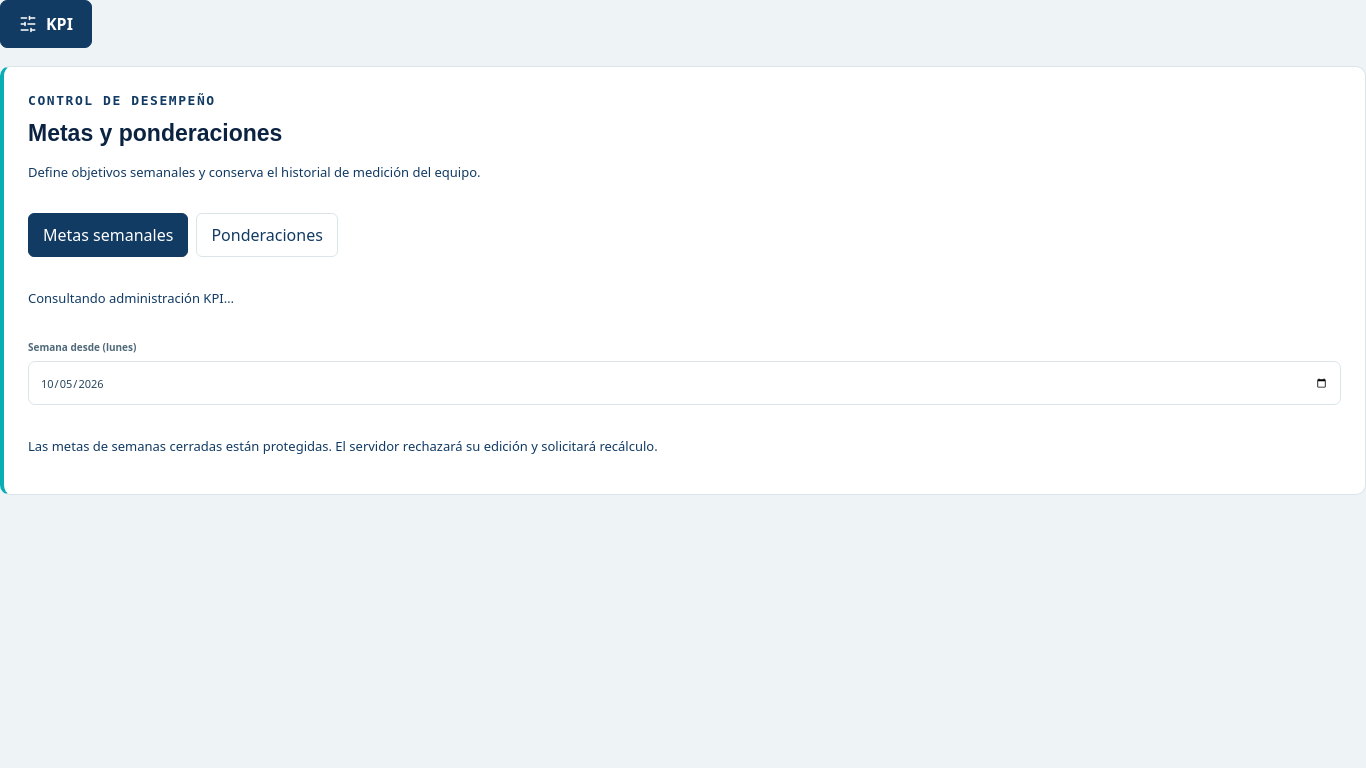
Test case: conserva el borrador cuando el servidor bloquea una semana cerrada
Click the button "KPI": (46, 24) [0,0,92,48]
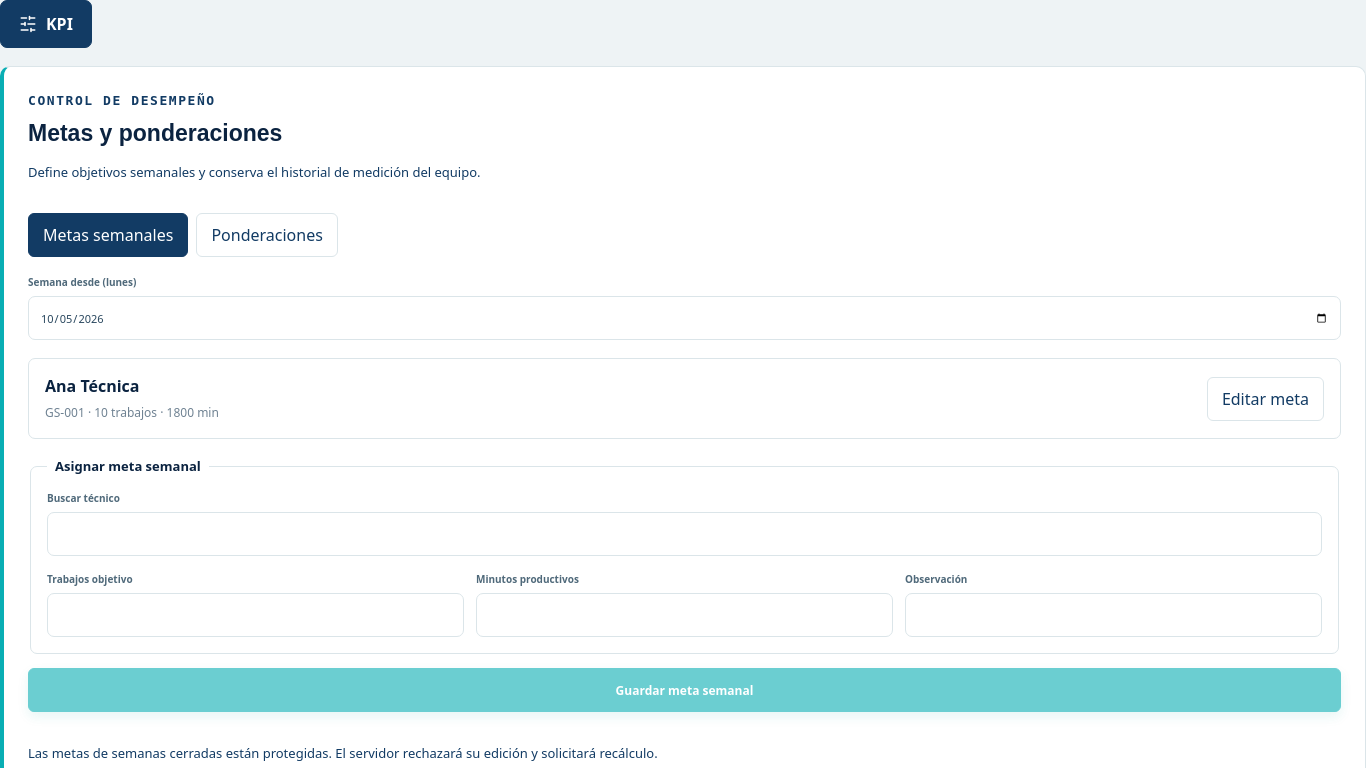
Click the button with aria-label "Editar meta de Ana Técnica": (1265, 399) [1207,377,1324,421]
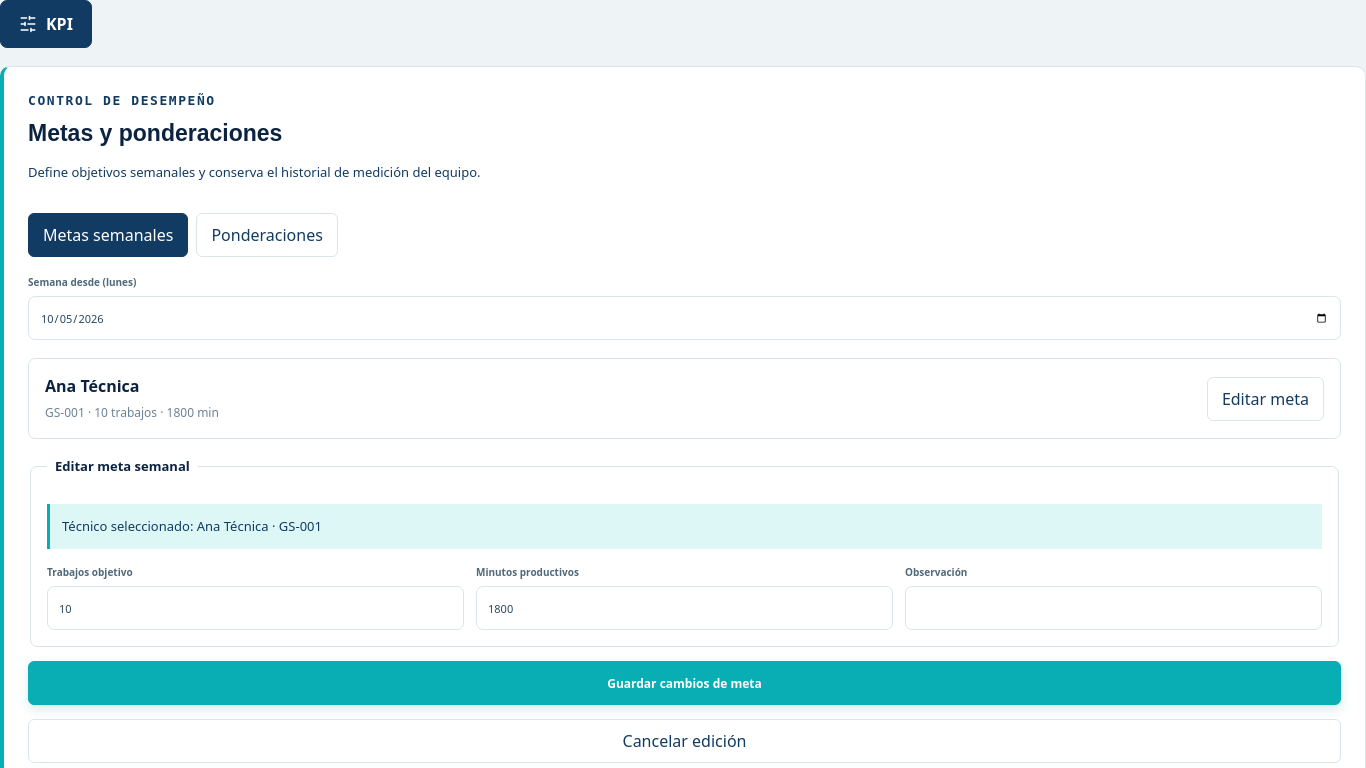
Replace the text in the number field labelled "Trabajos objetivo" with "12": (256, 608) [47,586,464,630]
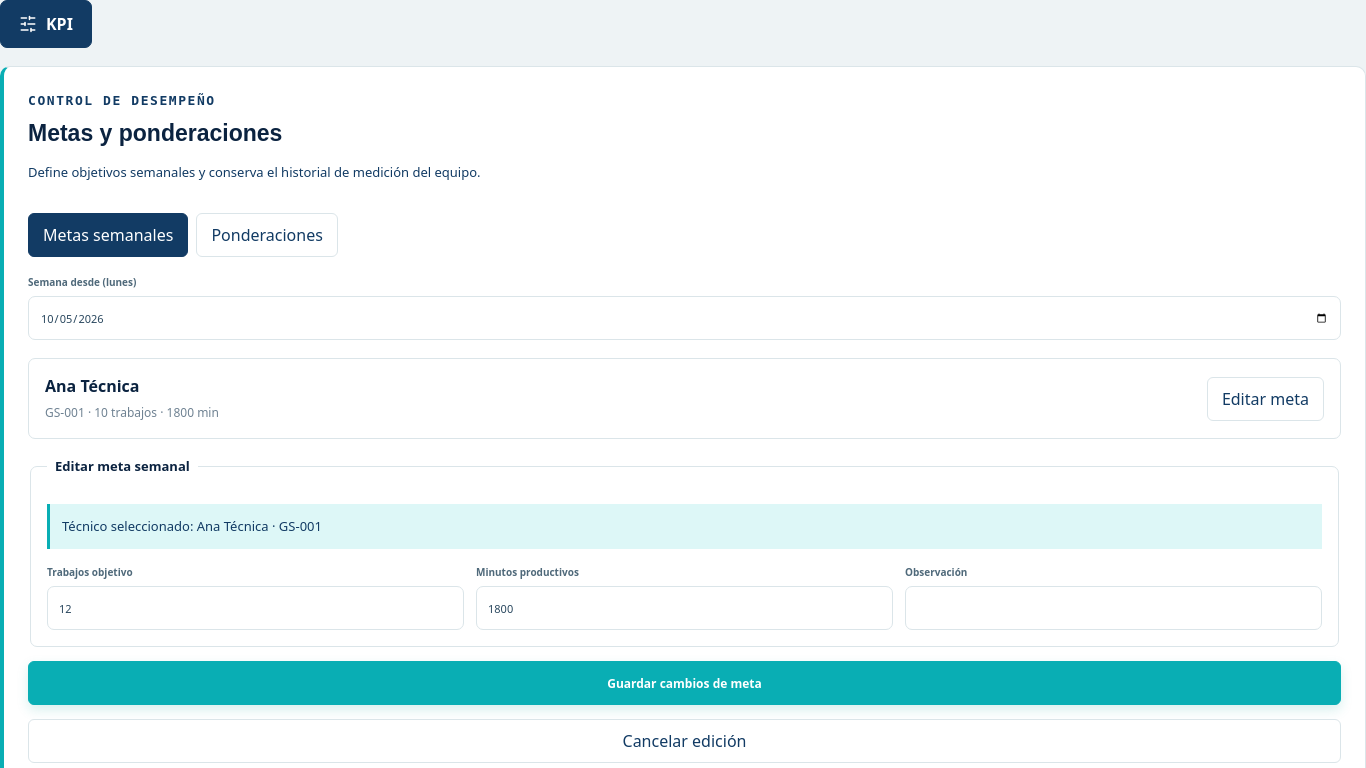
Click the button "Guardar cambios de meta": (684, 683) [28,661,1341,705]
(page scrolled)
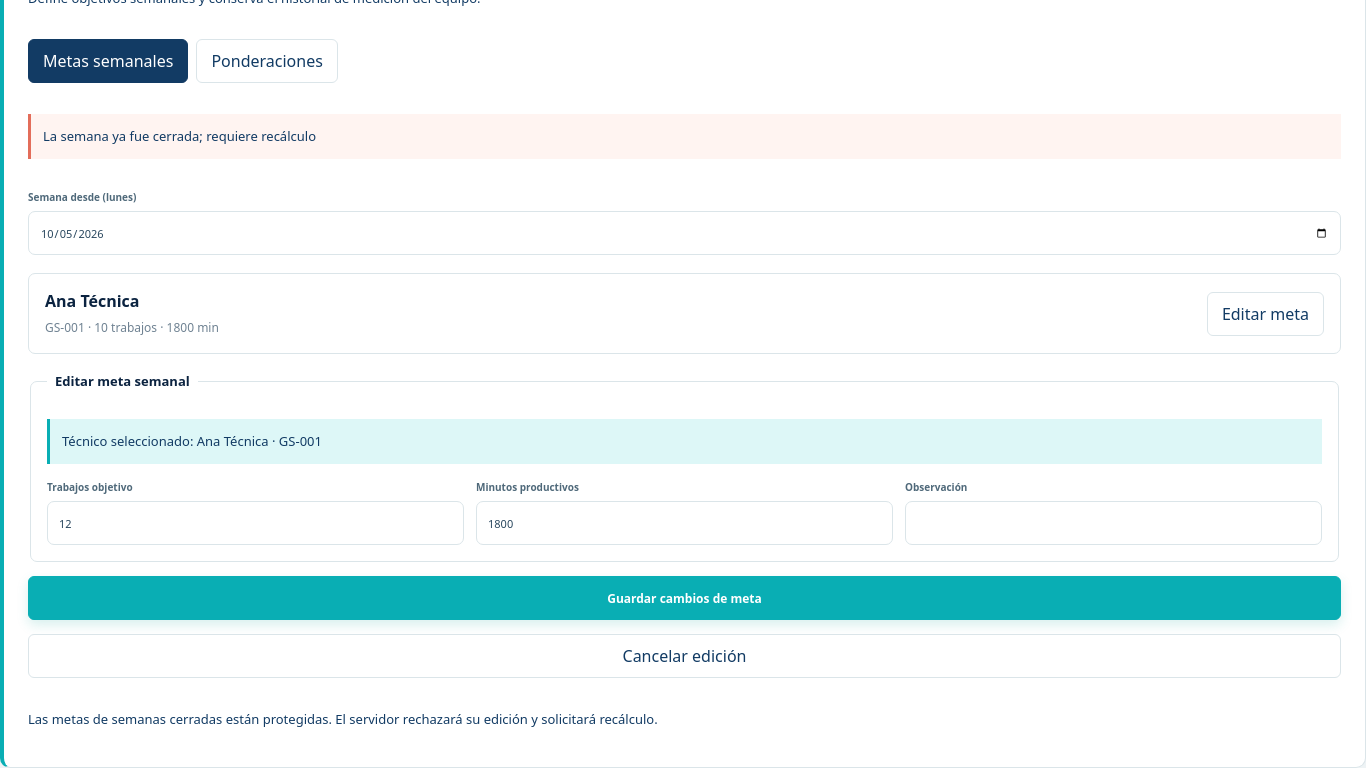
Expected: the button "Guardar cambios de meta" is enabled, [28,576,1341,620]
Expected: the message shows "requiere recálculo", [43,128,316,146]
